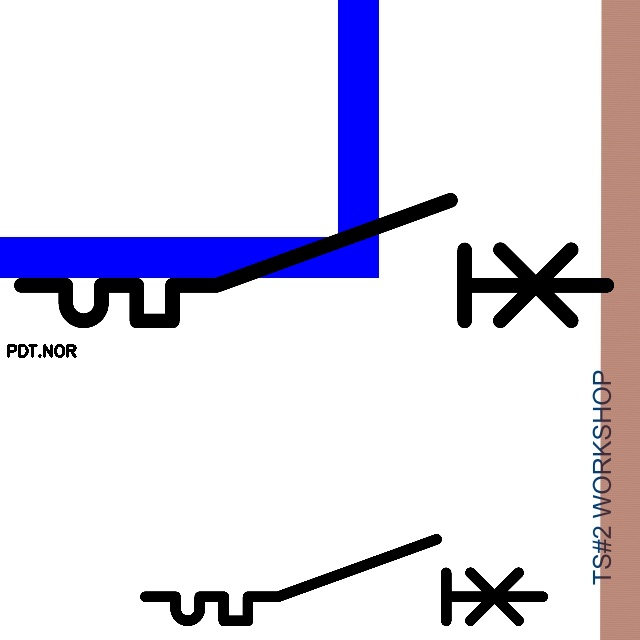interruptor_termomagnetico: (6, 185, 622, 336), (135, 529, 553, 631)
